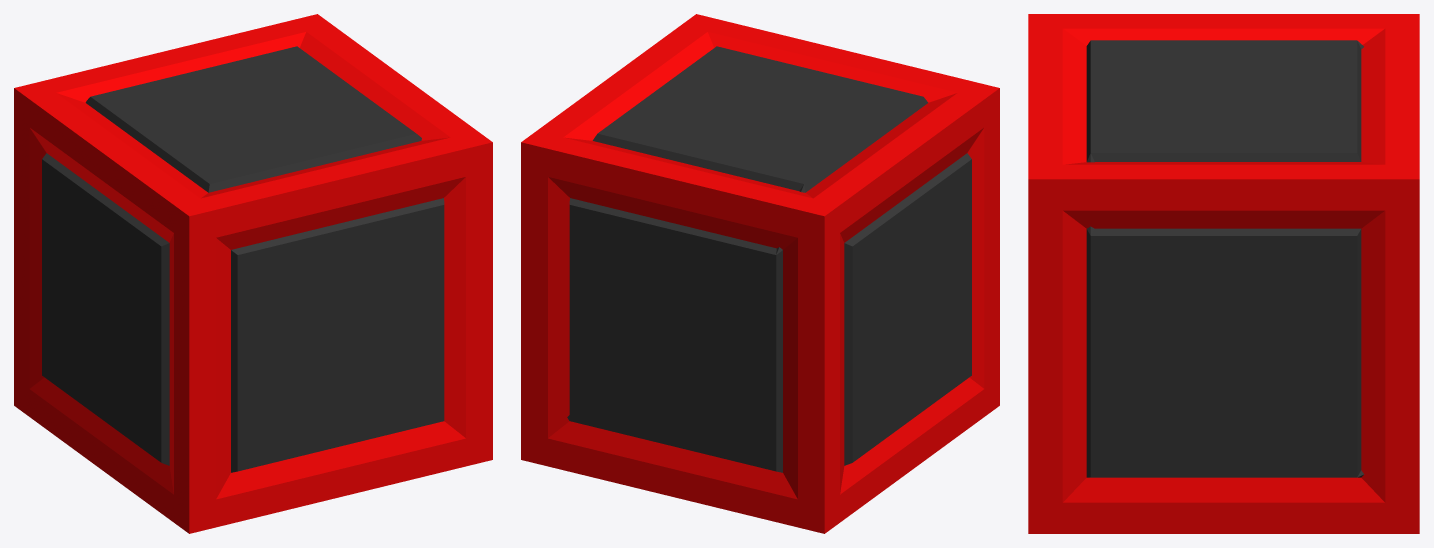
File: ModularShipParts.fbx
The picture shows the model from 3 angles, left to right: view 1: azimuth 30°, elevation 25°; view 2: azimuth 150°, elevation 25°; view 3: azimuth 270°, elevation 25°; orthographic projection. The views are drawn at different scales.
Parts seen in each view (by area): view 1: BaseCube.001, ShieldCoil, Corner, Slope; view 2: ShieldCoil, BaseCube.001, Corner; view 3: ShieldCoil, BaseCube.001, Corner.
Part boxes in pixels (bbox=[...]): BaseCube.001: bbox=[42, 46, 444, 472]; ShieldCoil: bbox=[14, 14, 492, 533]; Corner: bbox=[86, 97, 421, 183]; Slope: bbox=[237, 256, 436, 469]; ShieldCoil: bbox=[521, 14, 999, 533]; BaseCube.001: bbox=[569, 46, 971, 472]; Corner: bbox=[567, 47, 921, 471]; ShieldCoil: bbox=[1028, 14, 1419, 533]; BaseCube.001: bbox=[1086, 40, 1361, 477]; Corner: bbox=[1087, 40, 1364, 477].
Size of the model in its own units: 1 by 1 by 1.
1 material, 1 textured.
